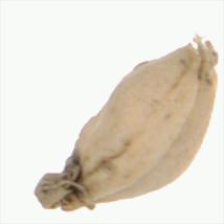L1: (38, 153, 99, 211), (185, 37, 219, 83)
L2: (38, 35, 218, 210)
